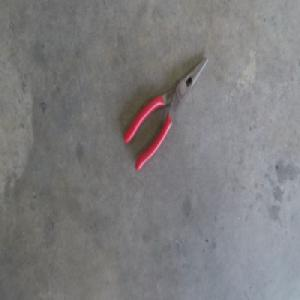Pliers: (122, 56, 208, 175)
